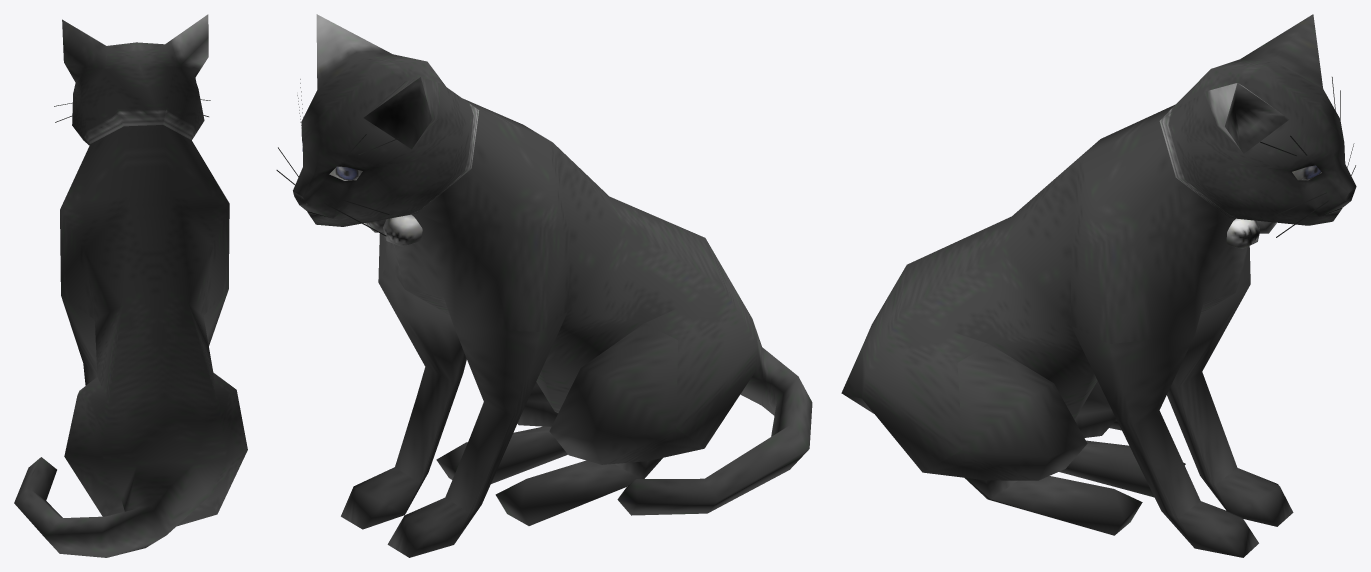
File: base.ico.obj
The picture shows the model from 3 angles, left to right: view 1: azimuth 30°, elevation 25°; view 2: azimuth 150°, elevation 25°; view 3: azimuth 270°, elevation 25°; orthographic projection. The views are drawn at different scales.
Size of the model in its own units: 3.56 by 4.56 by 4.36.
1 material, 1 textured.
